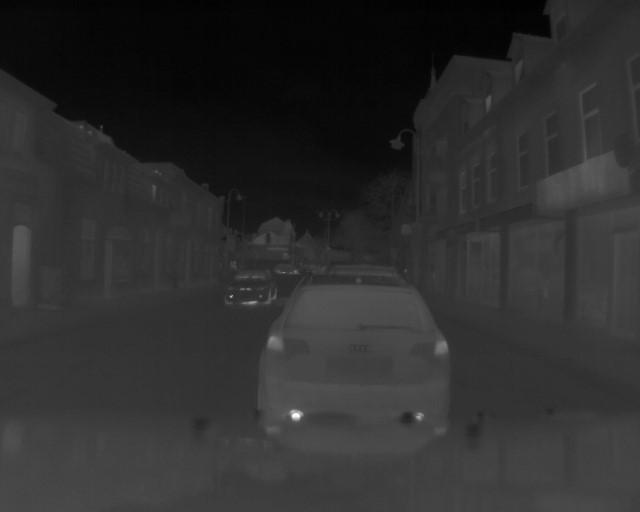car: (262, 280, 457, 423), (224, 263, 278, 316)
